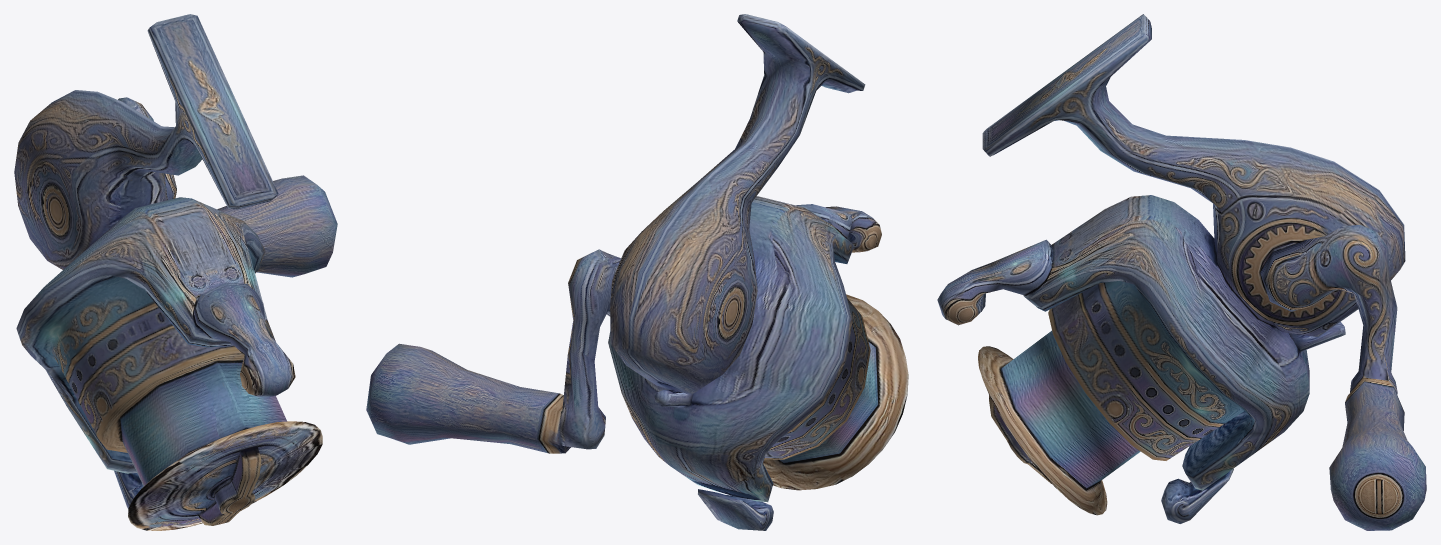
File: Fishing_reel_03.fbx
The picture shows the model from 3 angles, left to right: view 1: azimuth 30°, elevation 25°; view 2: azimuth 150°, elevation 25°; view 3: azimuth 270°, elevation 25°; orthographic projection. The views are drawn at different scales.
Visible parts, largest first — view 1: Fishing_reel_03; view 2: Fishing_reel_03; view 3: Fishing_reel_03.
Part boxes in pixels (x1,y1,x2,y2): Fishing_reel_03: (14, 14, 337, 530); Fishing_reel_03: (366, 14, 908, 530); Fishing_reel_03: (937, 14, 1426, 530).
Size of the model in its own units: 43.18 by 53.99 by 48.43.
